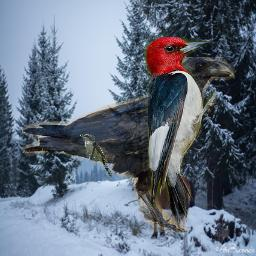Crow: (22, 57, 235, 232)
Cuckoo: (80, 134, 112, 177)
Woodpecker: (141, 37, 223, 235)
